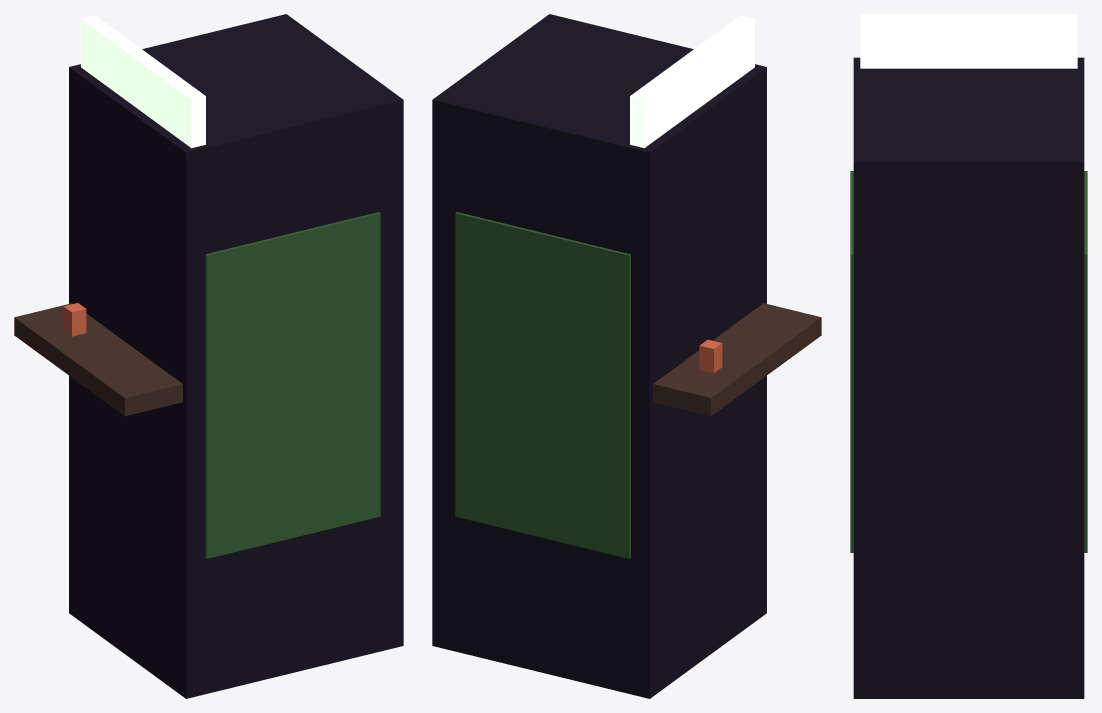
The model's file is wall_4.glb.
The picture shows the model from 3 angles, left to right: view 1: azimuth 30°, elevation 25°; view 2: azimuth 150°, elevation 25°; view 3: azimuth 270°, elevation 25°; orthographic projection.
Visible parts, largest first — view 1: Box1, Box2, Box5, Box4, Box6; view 2: Box1, Box2, Box5, Box4, Box6; view 3: Box1, Box4, Box2.
Boxes of the visible parts, x1,y1,x2,y2 form: Box1: [69, 14, 403, 698]; Box2: [205, 212, 380, 558]; Box5: [14, 303, 182, 416]; Box4: [81, 15, 205, 148]; Box6: [63, 303, 86, 336]; Box1: [432, 14, 766, 698]; Box2: [455, 212, 630, 558]; Box5: [653, 303, 821, 416]; Box4: [630, 15, 754, 148]; Box6: [699, 339, 722, 373]; Box1: [853, 57, 1084, 698]; Box4: [860, 14, 1077, 68]; Box2: [850, 171, 1087, 552].
Size of the model in its own units: 0.95 by 1.96 by 0.72.
